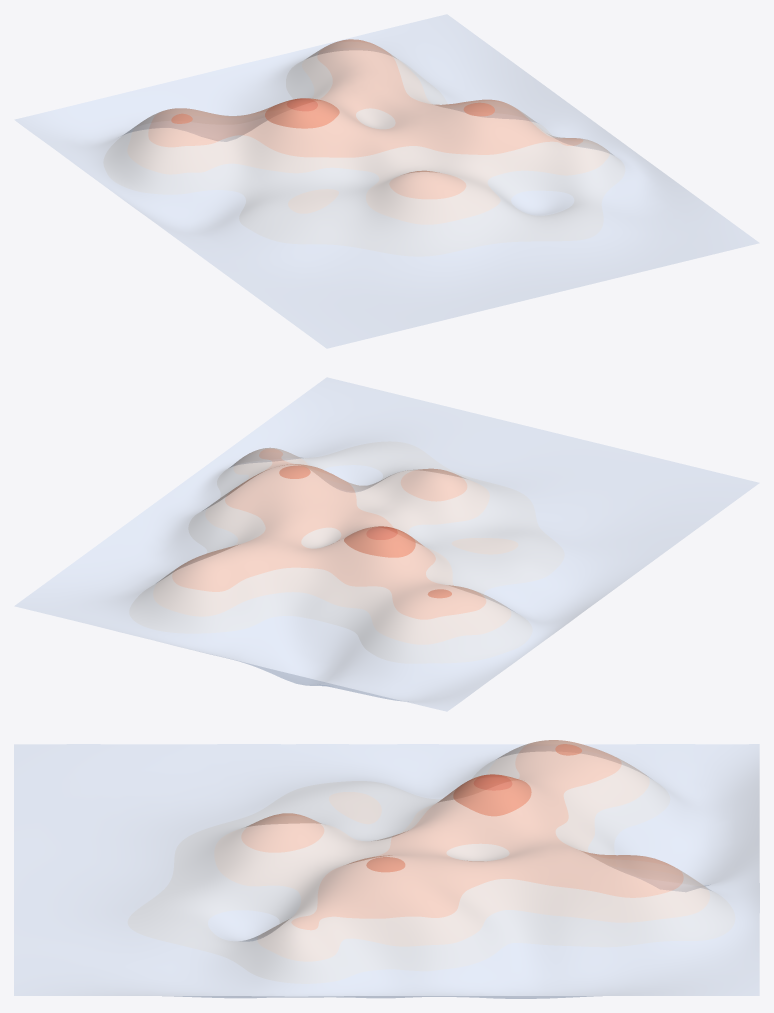
The model's file is test_mhq.fbx.
3 views of the same model, one above another, from view 1: azimuth 30°, elevation 25°; view 2: azimuth 150°, elevation 25°; view 3: azimuth 270°, elevation 25° (orthographic). The views are drawn at different scales.
Visible parts, largest first — view 1: 物件_7, 物件_4, 物件_12, 物件_3, 物件_1, 物件_8, 物件_6, 物件_5, 物件_11; view 2: 物件_7, 物件_4, 物件_12, 物件_3, 物件_1, 物件_8, 物件_6, 物件_5, 物件_11; view 3: 物件_7, 物件_4, 物件_12, 物件_3, 物件_1, 物件_8, 物件_6, 物件_5, 物件_11, 物件_10, 物件_9.
Boxes of the visible parts, x1,y1,x2,y2 form: 物件_7: (15,14,758,348); 物件_4: (103,48,625,256); 物件_12: (148,39,583,157); 物件_3: (127,42,609,224); 物件_1: (389,170,466,199); 物件_8: (265,98,339,128); 物件_6: (511,191,573,215); 物件_5: (288,189,338,213); 物件_11: (356,108,395,129); 物件_7: (15,377,758,711); 物件_4: (129,441,564,663); 物件_12: (172,448,486,619); 物件_3: (153,447,511,644); 物件_1: (400,468,467,501); 物件_8: (344,526,415,557); 物件_6: (324,465,382,492); 物件_5: (451,538,518,554); 物件_11: (301,527,341,548); 物件_7: (14,744,759,998); 物件_4: (127,746,735,983); 物件_12: (291,740,683,930); 物件_3: (214,740,709,961); 物件_1: (241,813,324,852); 物件_8: (453,774,531,816); 物件_6: (208,910,279,941); 物件_5: (329,792,381,824); 物件_11: (446,843,509,861); 物件_10: (473,774,512,790); 物件_9: (366,857,405,872).
Bounding box in the file's own units: 5711 × 7143 × 1169.
